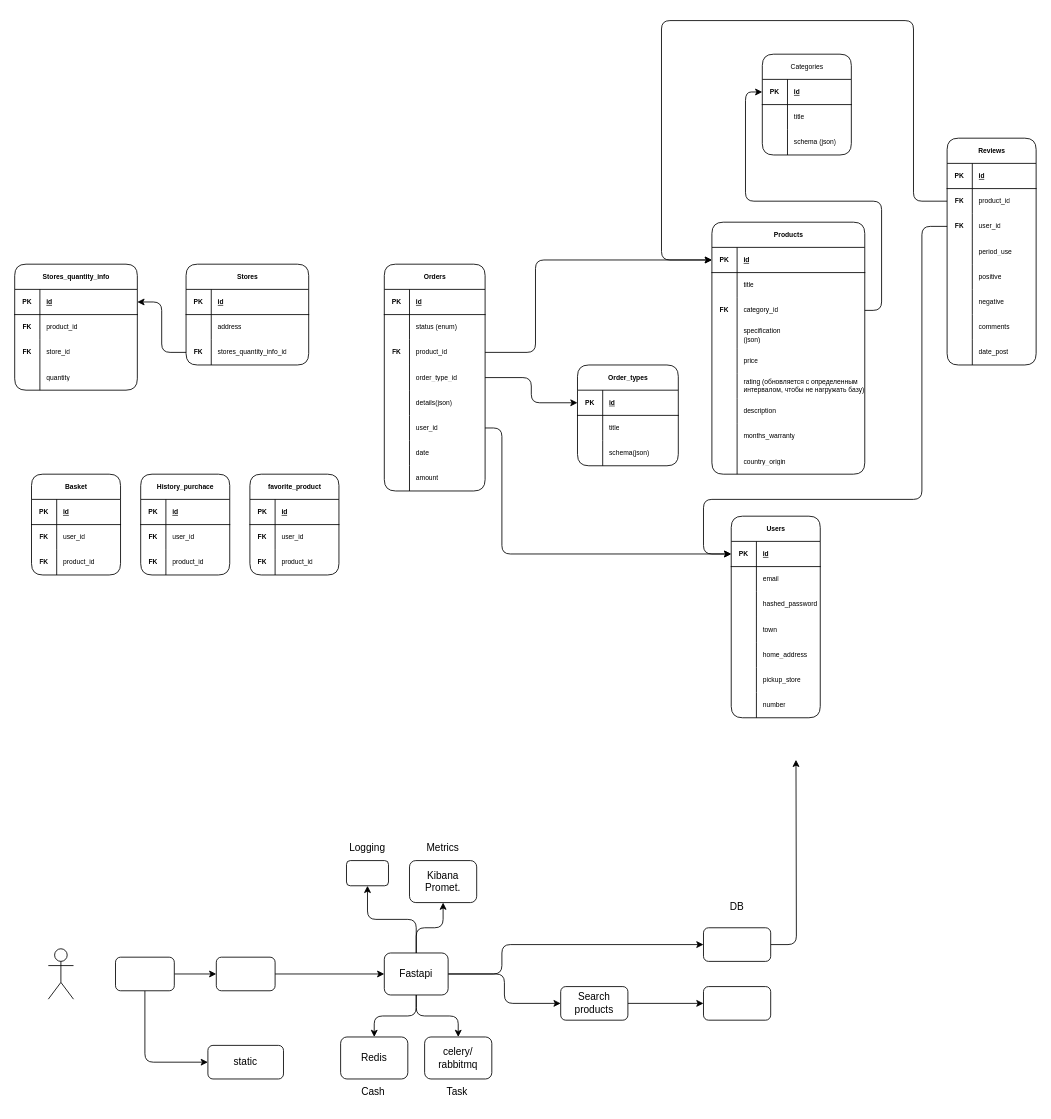
Image size: 1051x1119. Some labels were removed from this diagram. Each missing label, with the centre of its shape:
"client" goes at (x=60, y=973).
"Elastic" goes at (x=737, y=1003).
"ELK" goes at (x=367, y=873).
"gunicorn" goes at (x=245, y=973).
"nginx" goes at (x=144, y=973).
"postgres" goes at (x=737, y=944).
